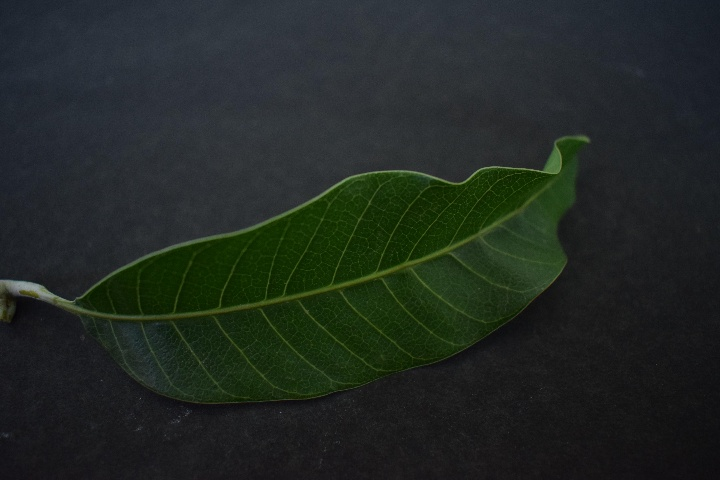healthy: (38, 136, 631, 402)
